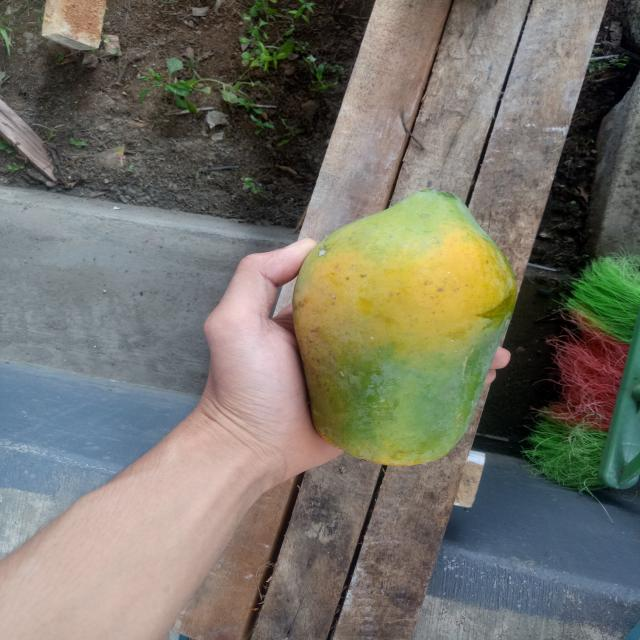Pepaya rippen: (281, 182, 524, 468)
